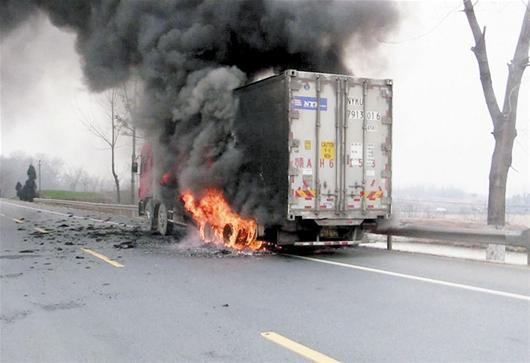fire: (172, 181, 263, 255)
